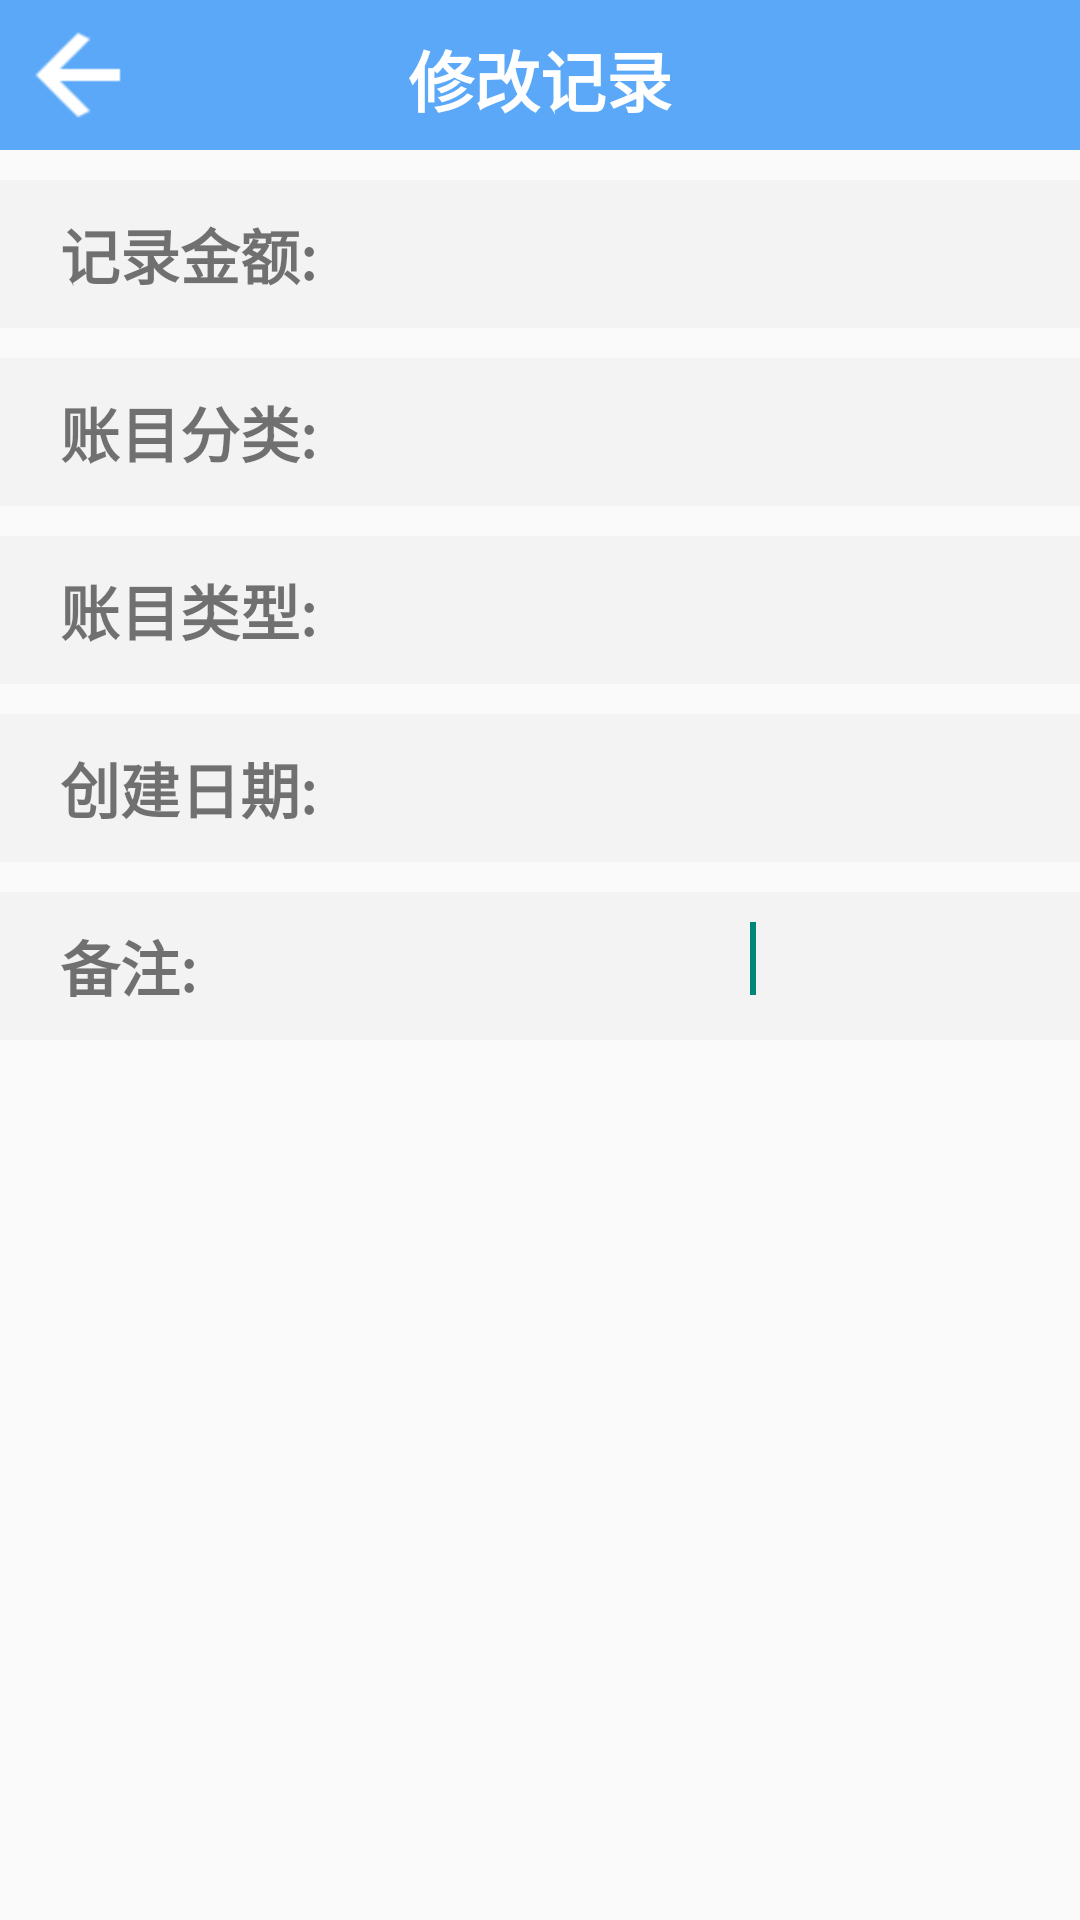

Icons on this 1080 x 1920 Android screen, each with the point to tap as point (x, y):
back: point (78, 75)
